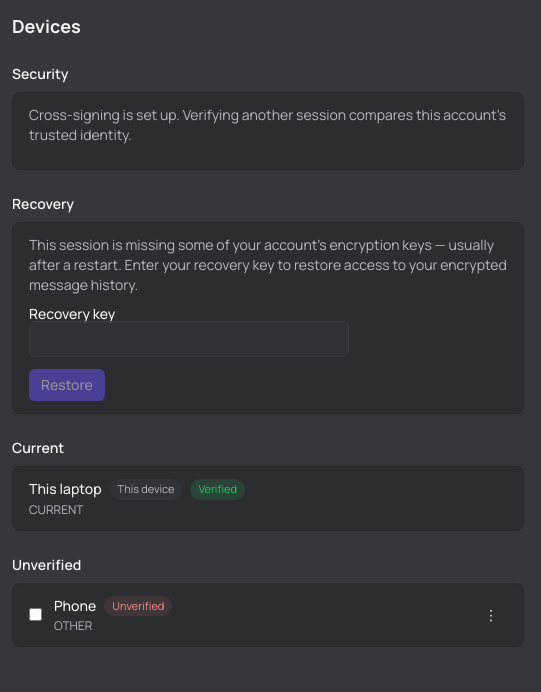
Scenario: DevicesPanel › surfaces a recovery error instead of silently failing on a wrong key
The image size is (541, 692).
Type "wrong-key" into the password field labelled "Recovery key" at (189, 339), box 29,321 -> 349,357
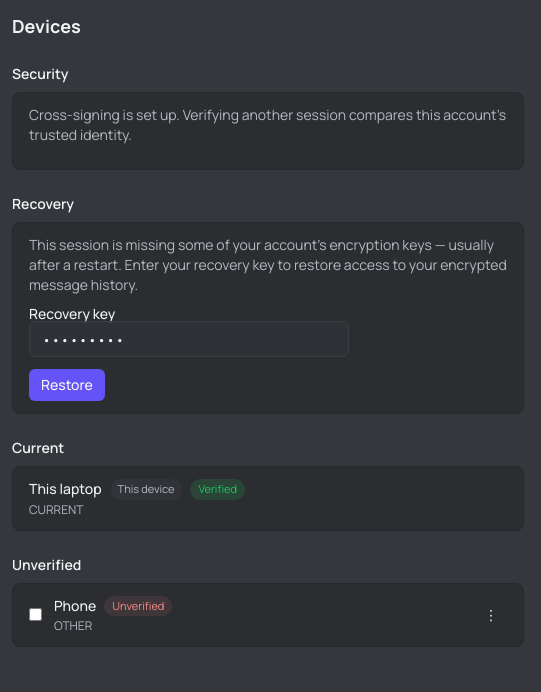
Click the button "Restore" at (67, 385), box 29,369 -> 105,401
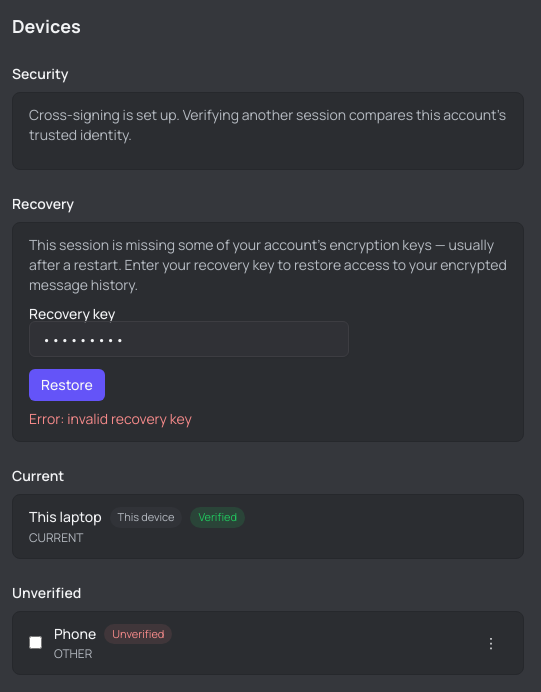
Check: the text "Error: invalid recovery key" is shown, box 29,409 -> 192,428
